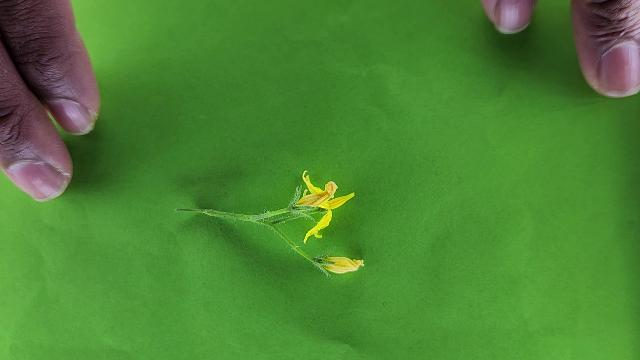Anthesis: (294, 173, 356, 245), (310, 248, 368, 275)
